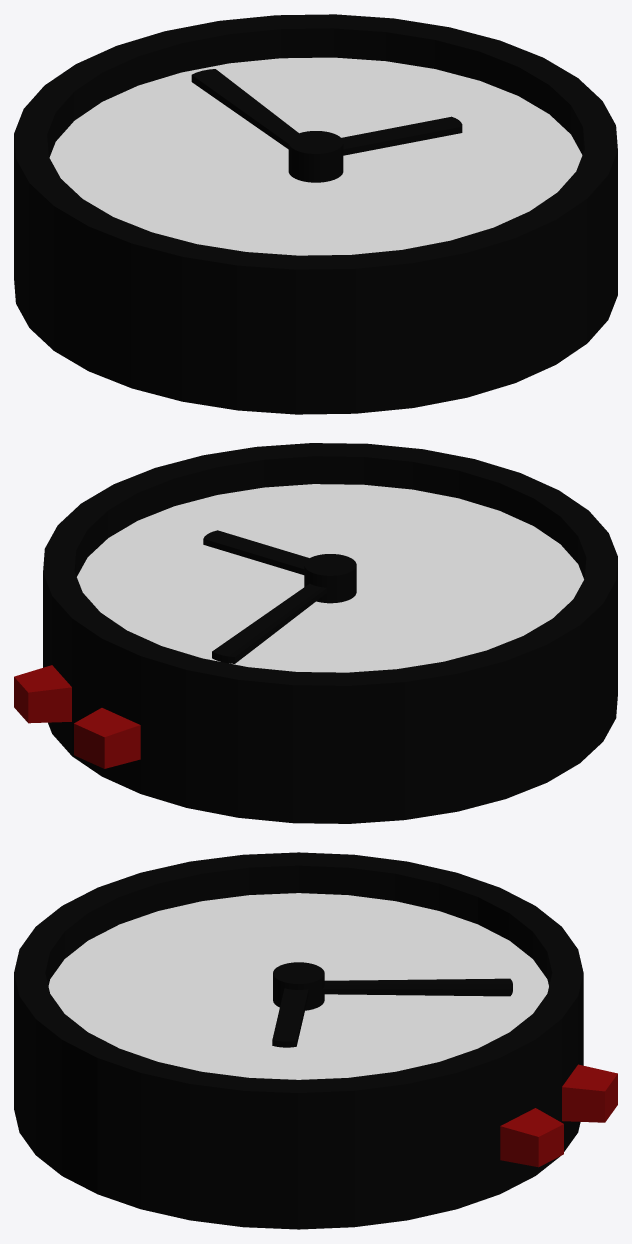
File: Uhr.fbx
3 views of the same model, one above another, from view 1: azimuth 30°, elevation 25°; view 2: azimuth 150°, elevation 25°; view 3: azimuth 270°, elevation 25° (orthographic). The views are drawn at different scales.
Parts seen in each view (by area): view 1: Cylinder; view 2: Cylinder; view 3: Cylinder.
Part boxes in pixels (x1,y1,x2,y2): Cylinder: (14, 14, 617, 414); Cylinder: (14, 443, 617, 823); Cylinder: (14, 852, 617, 1229).
Bounding box in the file's own units: 200 × 52.84 × 212.
